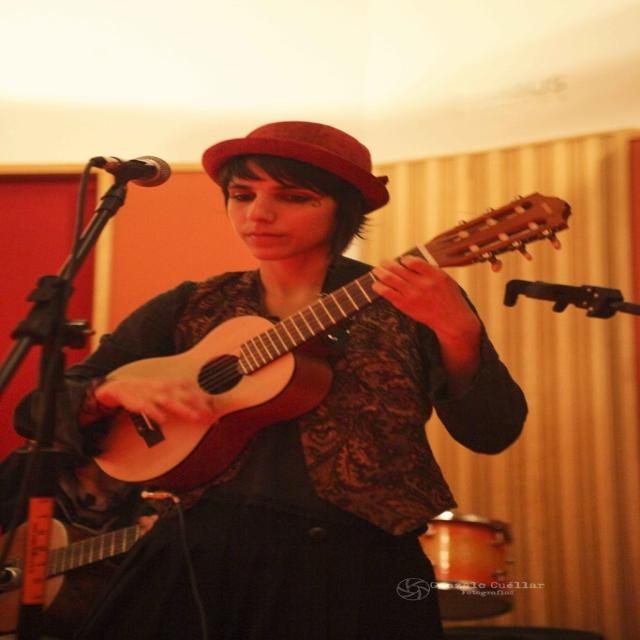Hat: (200, 118, 392, 218)
